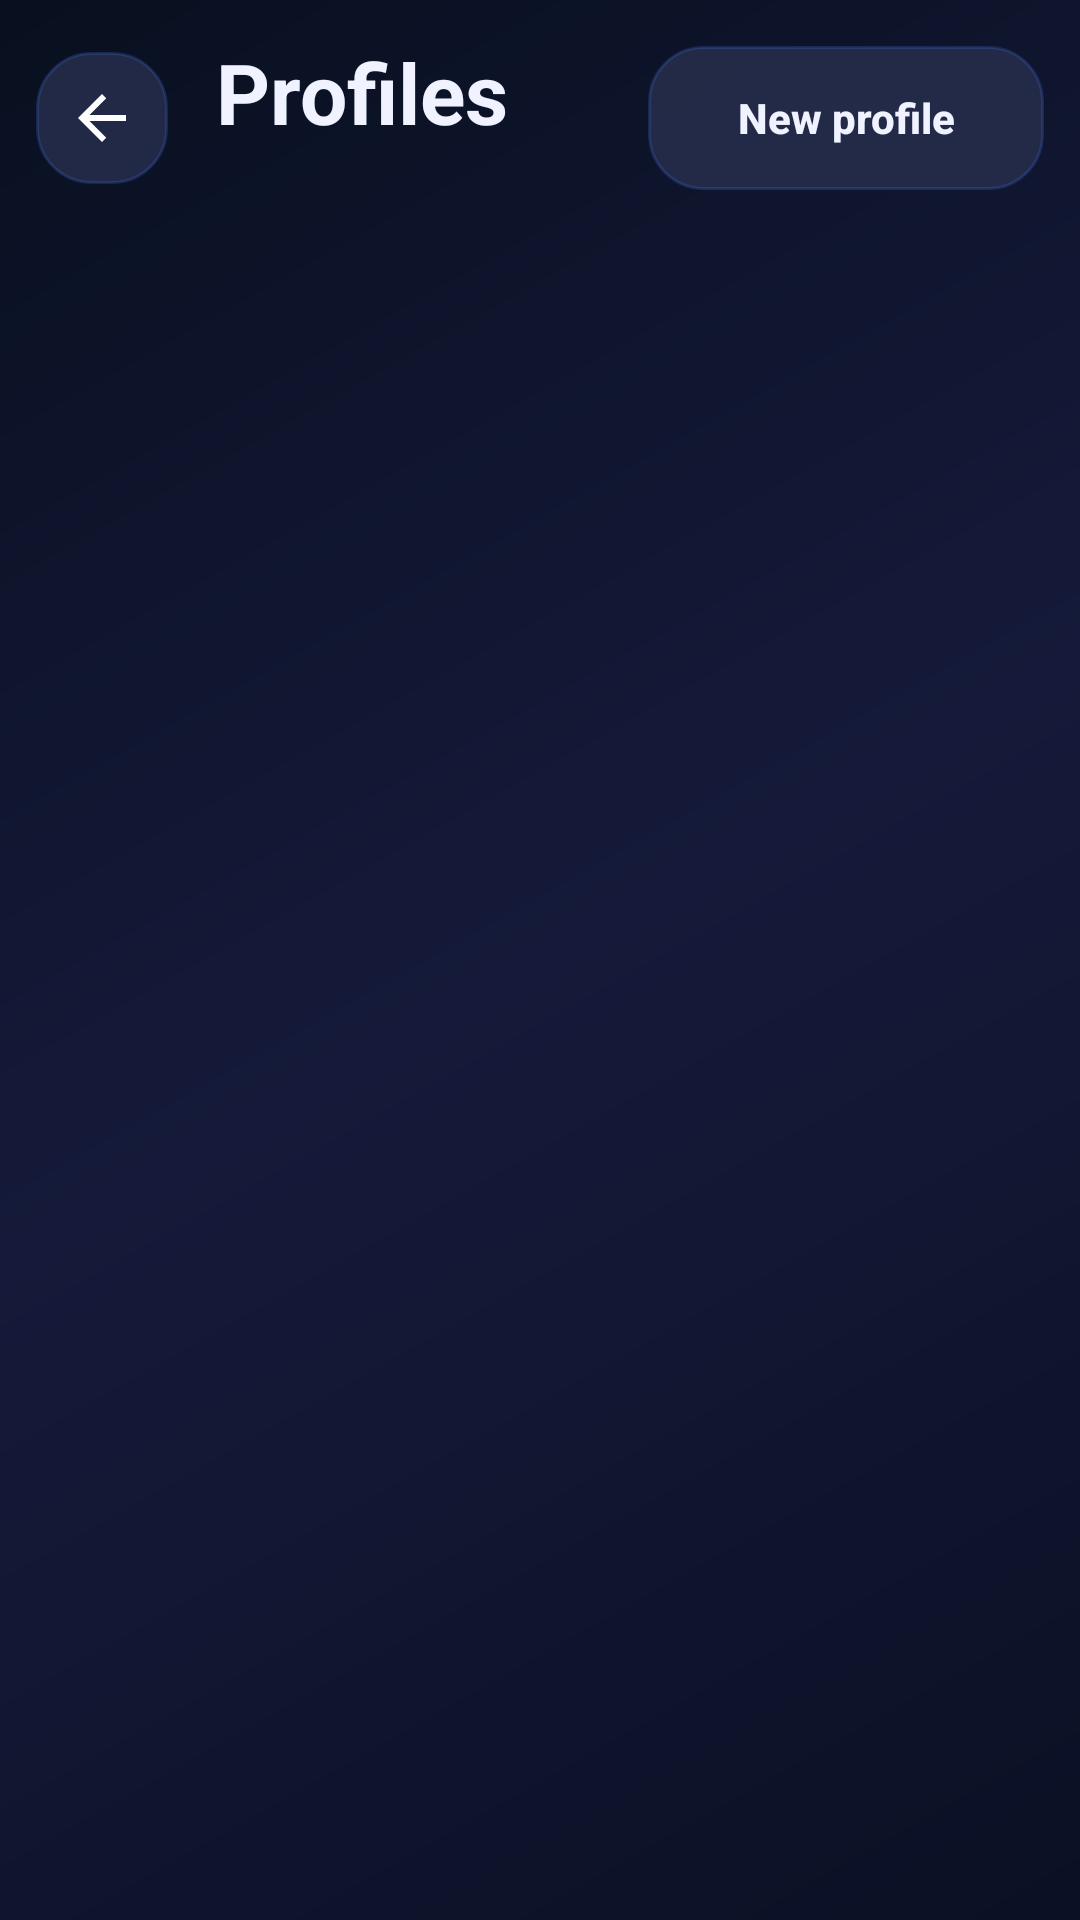

Icons on this 1080px x 1920px Android screen, each with the point to tap as point (x, y):
Back: point (102, 118)
